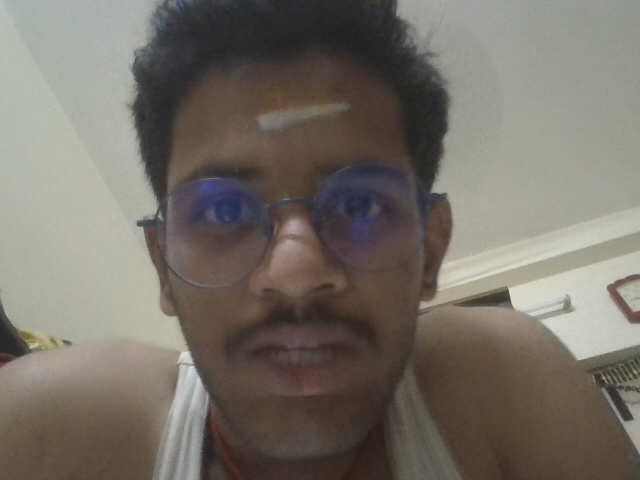real: (119, 80, 466, 427)
